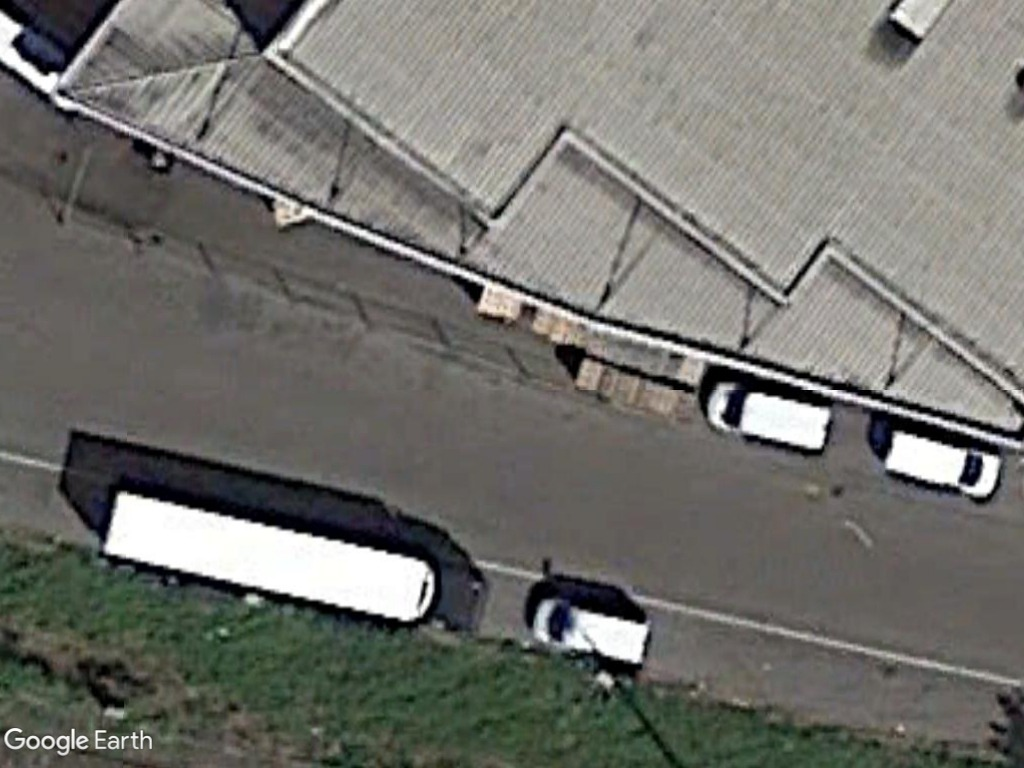longvehicle: (98, 483, 489, 637)
van: (697, 372, 837, 462), (527, 593, 656, 677), (874, 424, 1007, 505)
